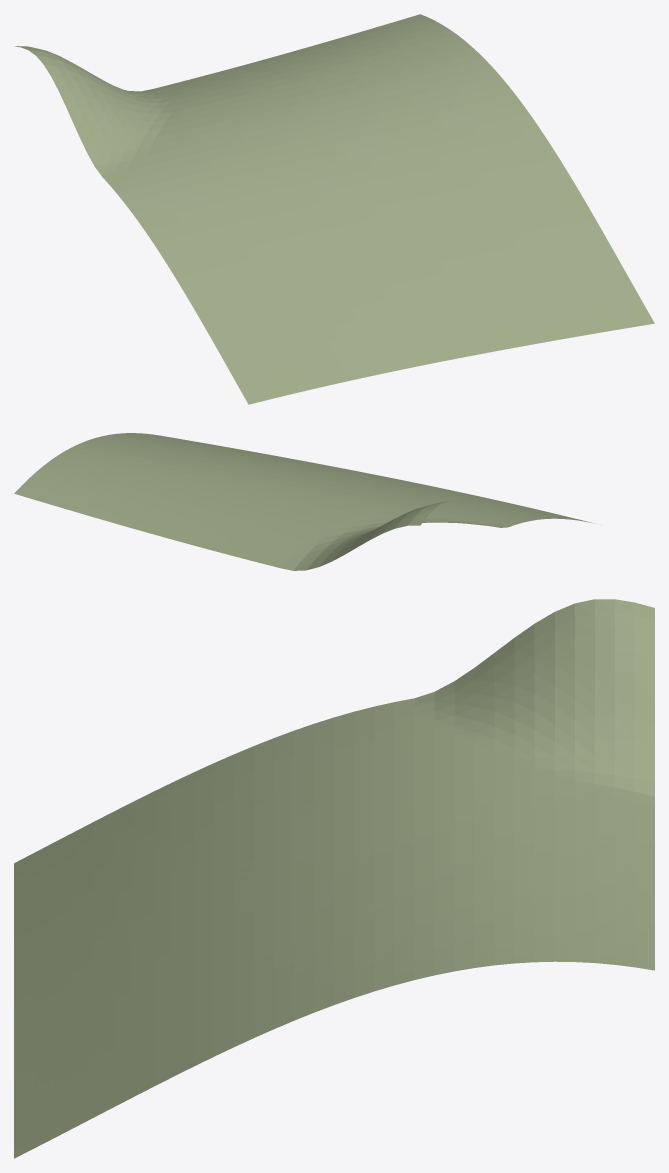
The model's file is expanse-25-29.glb.
The picture shows the model from 3 angles, top to bottom: view 1: azimuth 30°, elevation 25°; view 2: azimuth 150°, elevation 25°; view 3: azimuth 270°, elevation 25°; orthographic projection. The views are drawn at different scales.
Parts seen in each view (by area): view 1: expanse-25-29; view 2: expanse-25-29; view 3: expanse-25-29.
Boxes of the visible parts, x1,y1,x2,y2 form: expanse-25-29: (14,14,654,404); expanse-25-29: (14,433,594,570); expanse-25-29: (14,599,654,1158).
Bounding box in the file's own units: 256 × 127 × 256.
